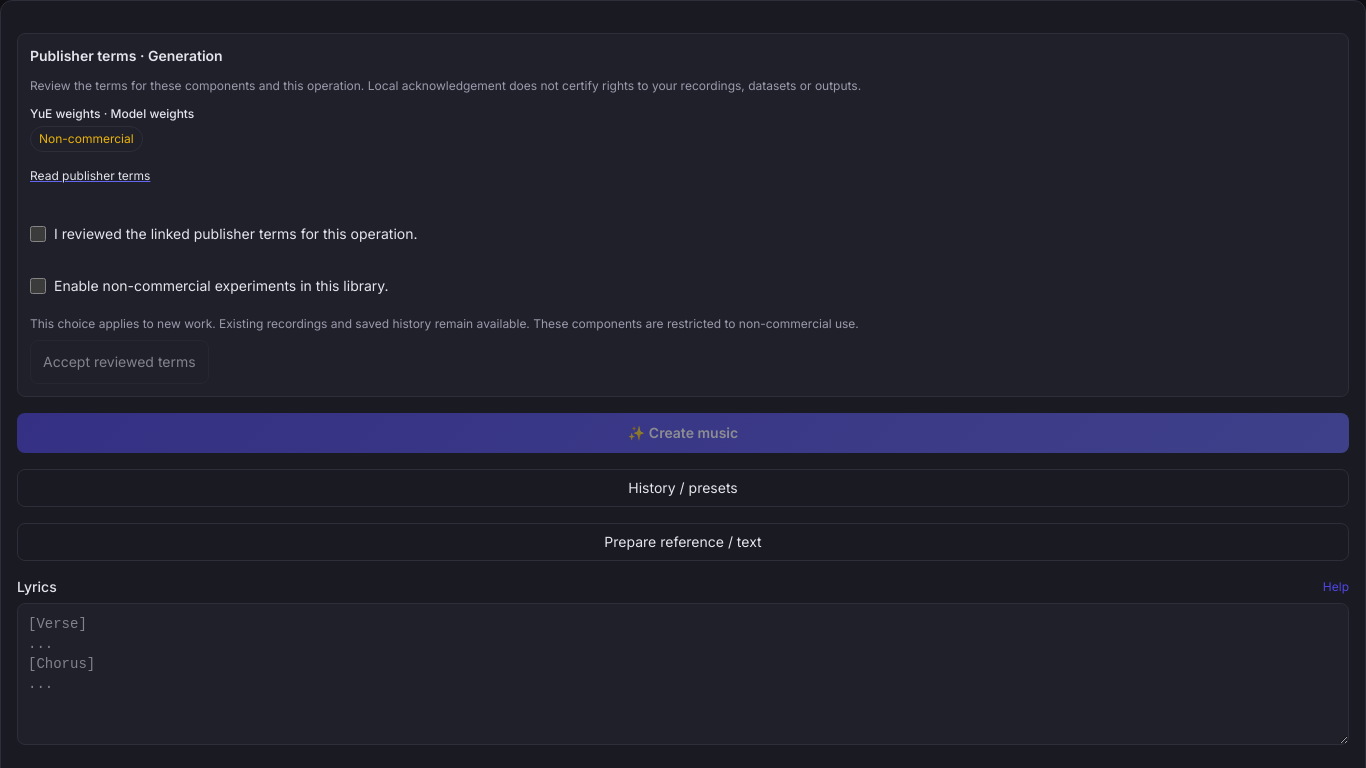
keeps new YuE generation blocked until explicit non-commercial acknowledgement
expect the button "✨ Create music" is disabled: met, box x1=17 y1=413 x2=1349 y2=453
Click the checkbox labelled "I reviewed the linked publisher terms for this operation.": (38, 234) x1=30 y1=226 x2=46 y2=242
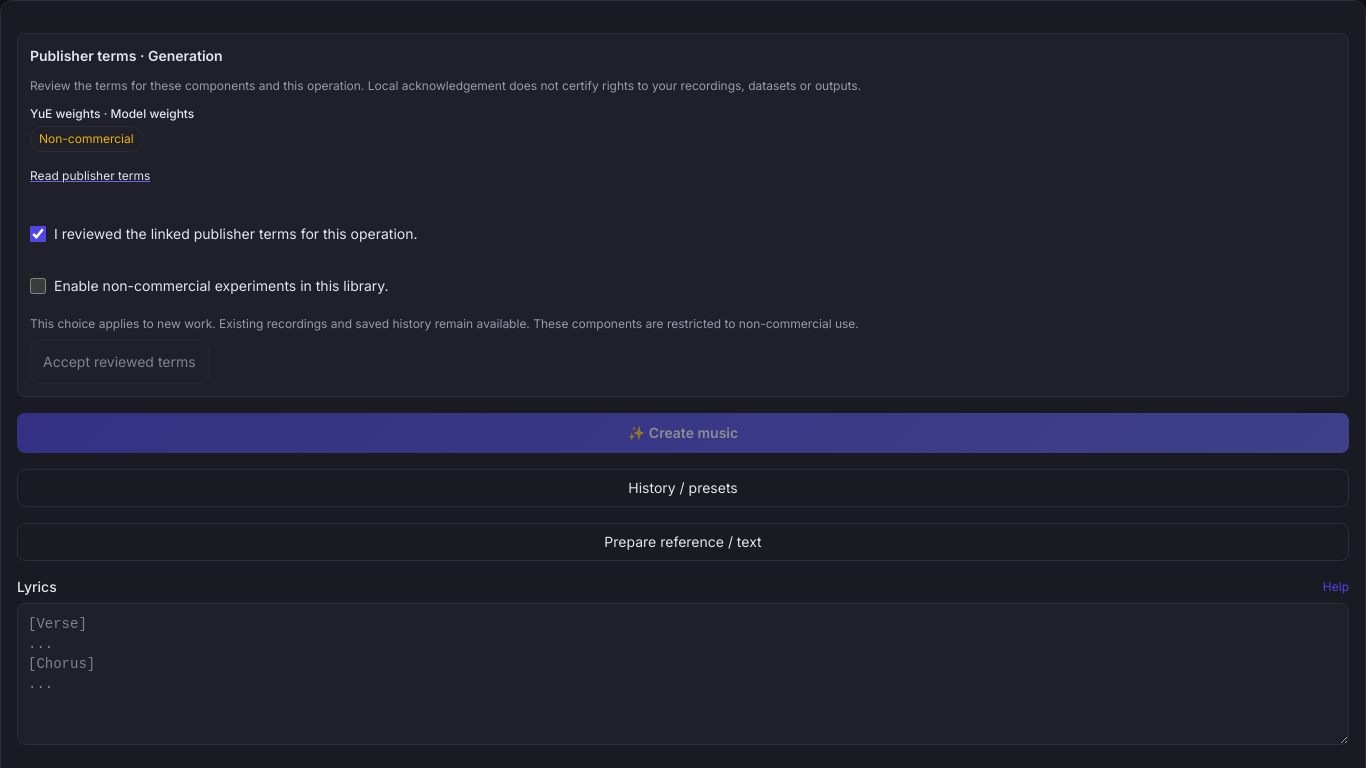
Click the checkbox labelled "Enable non-commercial experiments in this library.": (38, 286) x1=30 y1=278 x2=46 y2=294
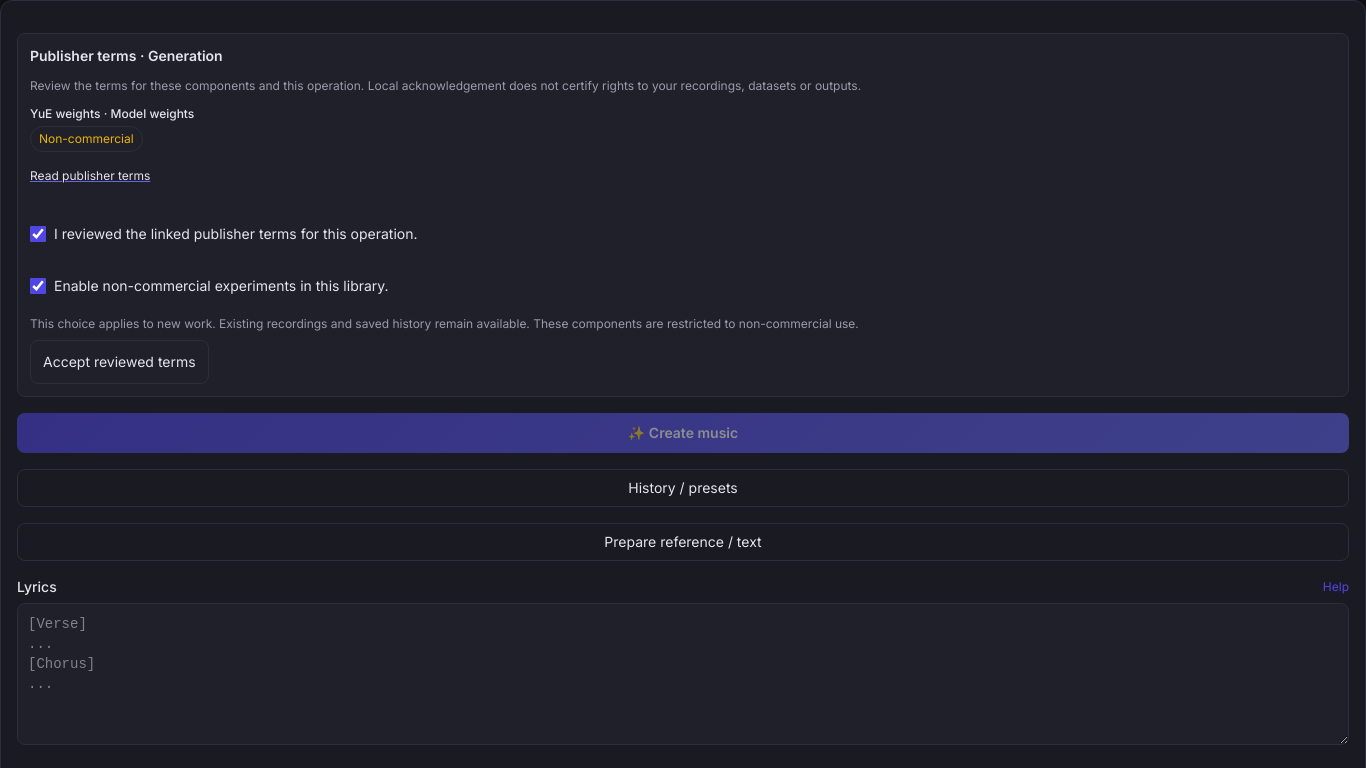
Click the button "Accept reviewed terms": (119, 362) x1=30 y1=340 x2=209 y2=384
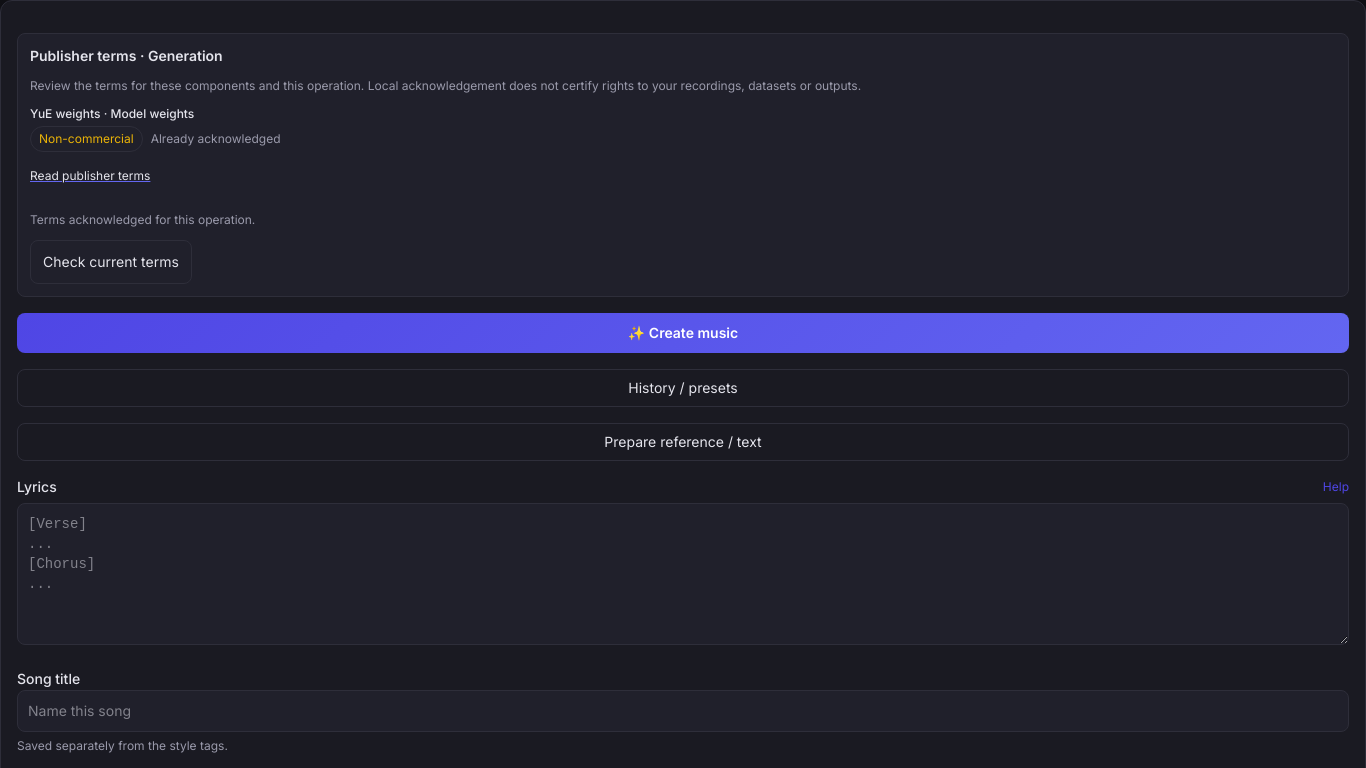
expect the button "✨ Create music" is enabled: met, box x1=17 y1=313 x2=1349 y2=353
